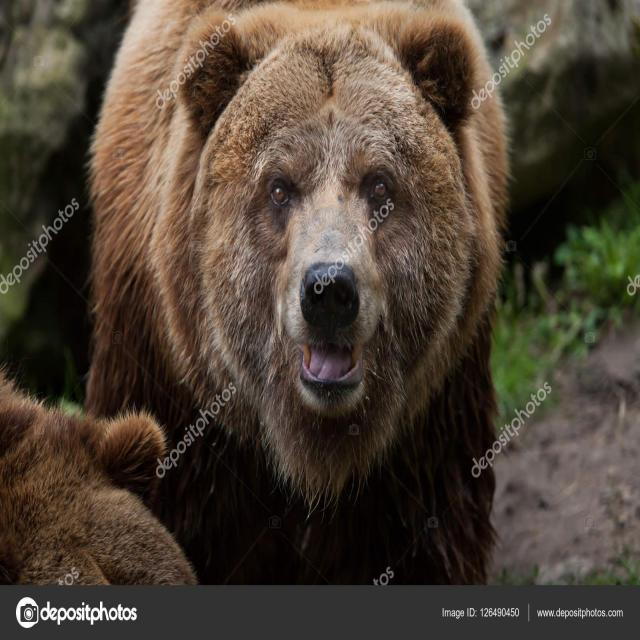Bear: (84, 0, 510, 587), (0, 375, 197, 587)
